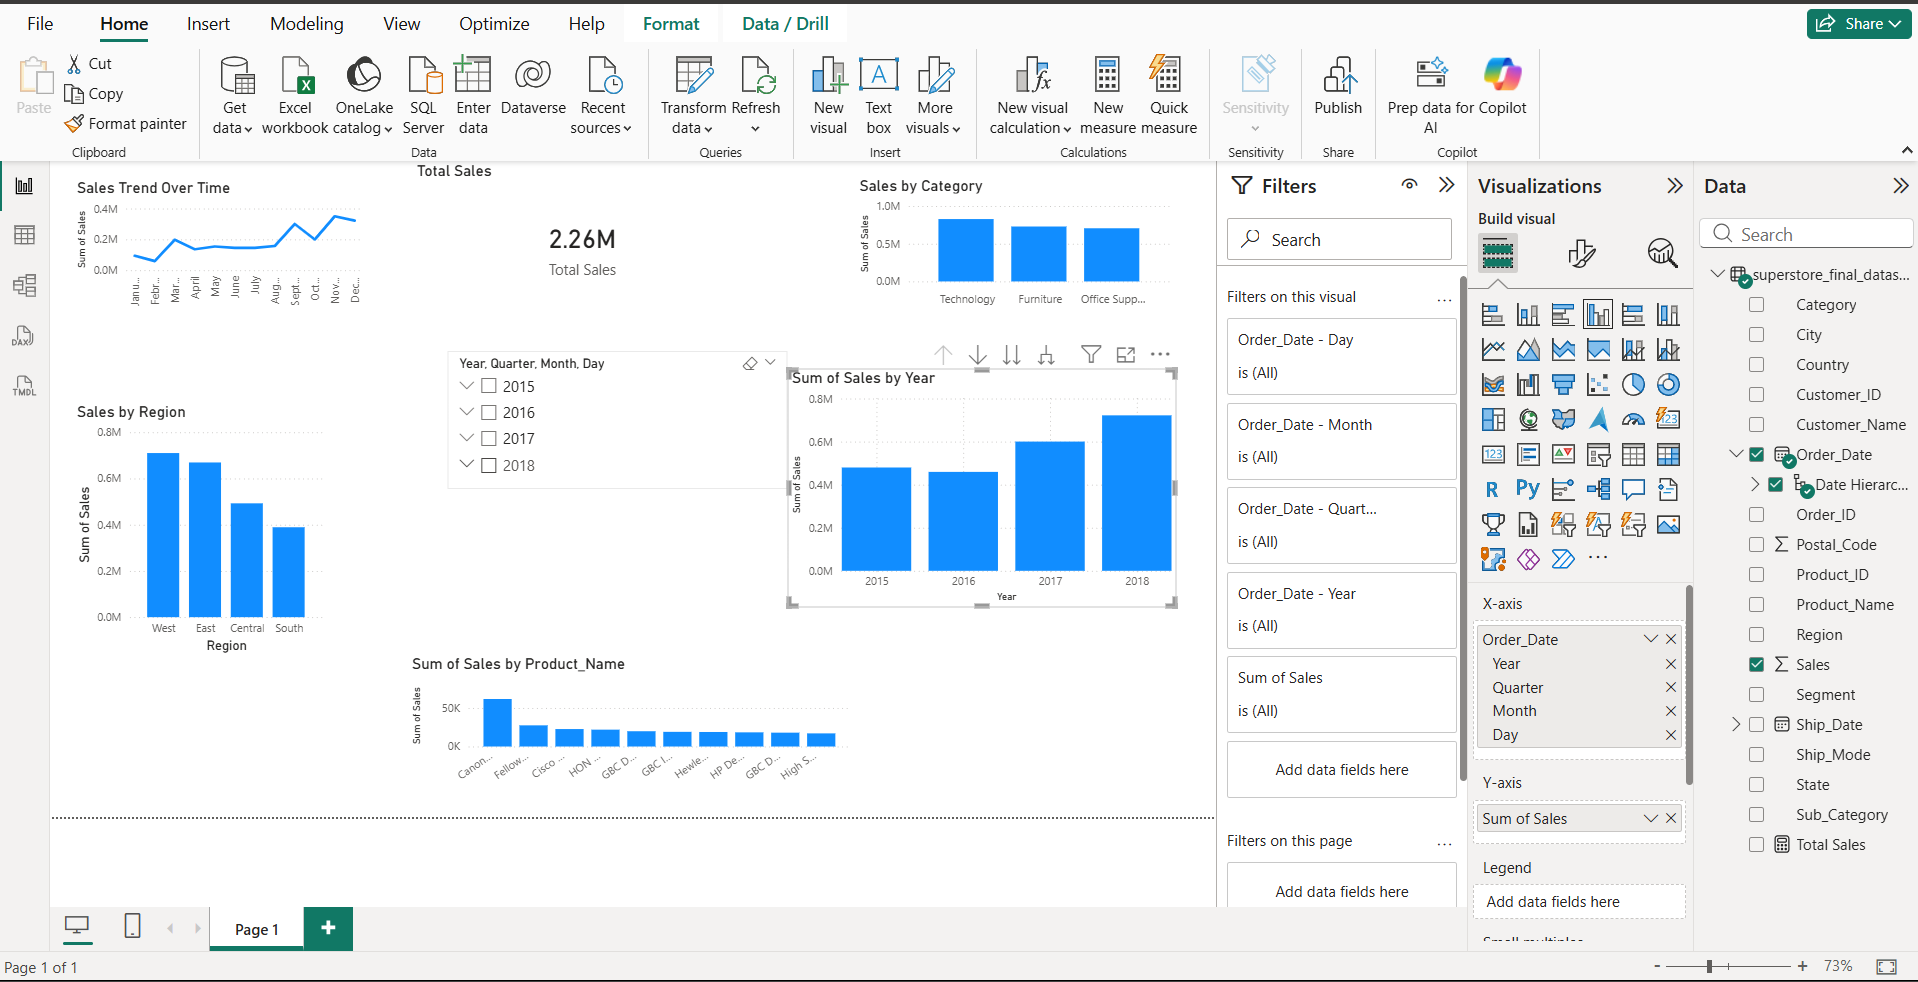

The page's visual inventory and layout, read from the dashboard file:
{"tool":"powerbi","page":{"name":"Page 1","canvas":[1280,720],"ordinal":0},"visuals":[{"type":"card","title":"Total Sales","fields":{"Values":["superstore_final_dataset (1).Total Sales 1"]},"box":[397.9,0,373.2,170.2],"z":0},{"type":"clusteredColumnChart","title":"Sales by Region","fields":{"Category":["superstore_final_dataset (1).Region"],"Y":["Sum(superstore_final_dataset (1).Sales)"]},"box":[24.7,264.8,279.9,279.9],"z":1000},{"type":"lineChart","title":"Sales Trend Over Time","fields":{"Category":["superstore_final_dataset (1).Order_Date.Variation.Date Hierarchy.Month"],"Y":["Sum(superstore_final_dataset (1).Sales)"]},"box":[24.7,19.2,323.8,150.9],"z":2000},{"type":"clusteredColumnChart","title":"Sales by Category","fields":{"Category":["superstore_final_dataset (1).Category"],"Y":["Sum(superstore_final_dataset (1).Sales)"]},"box":[883.7,16.5,352.7,150.9],"z":3000},{"type":"slicer","fields":{"Values":["superstore_final_dataset (1).Order_Date.Variation.Date Hierarchy.Year","superstore_final_dataset (1).Order_Date.Variation.Date Hierarchy.Quarter","superstore_final_dataset (1).Order_Date.Variation.Date Hierarchy.Month","superstore_final_dataset (1).Order_Date.Variation.Date Hierarchy.Day"]},"box":[436.4,208.6,373.2,150.9],"z":4000},{"type":"clusteredColumnChart","fields":{"Category":["superstore_final_dataset (1).Product_Name"],"Y":["Sum(superstore_final_dataset (1).Sales)"]},"box":[392.5,542,491.3,150.9],"z":5000},{"type":"clusteredColumnChart","fields":{"Category":["superstore_final_dataset (1).Order_Date.Variation.Date Hierarchy.Year","superstore_final_dataset (1).Order_Date.Variation.Date Hierarchy.Quarter","superstore_final_dataset (1).Order_Date.Variation.Date Hierarchy.Month","superstore_final_dataset (1).Order_Date.Variation.Date Hierarchy.Day"],"Y":["Sum(superstore_final_dataset (1).Sales)"]},"box":[809.6,227.8,426.8,262.1],"z":5001}]}

Visuals, with their boxes on the page's 1280x720 design canvas (x1, y1, x2, y2). These are canvas units, not pixel positions in the 1918x982 screenshot, which may show the page scaled, cropped or inside an application window:
"Total Sales" card: (left=398, top=0, right=771, bottom=170)
"Sales by Region" clusteredColumnChart: (left=25, top=265, right=305, bottom=545)
"Sales Trend Over Time" lineChart: (left=25, top=19, right=348, bottom=170)
"Sales by Category" clusteredColumnChart: (left=884, top=16, right=1236, bottom=167)
slicer - superstore_final_dataset (1).Order_Date.Variation.Date Hierarchy.Year x superstore_final_dataset (1).Order_Date.Variation.Date Hierarchy.Quarter: (left=436, top=209, right=810, bottom=360)
clusteredColumnChart - superstore_final_dataset (1).Product_Name x Sum(superstore_final_dataset (1).Sales): (left=392, top=542, right=884, bottom=693)
clusteredColumnChart - superstore_final_dataset (1).Order_Date.Variation.Date Hierarchy.Year x superstore_final_dataset (1).Order_Date.Variation.Date Hierarchy.Quarter: (left=810, top=228, right=1236, bottom=490)
